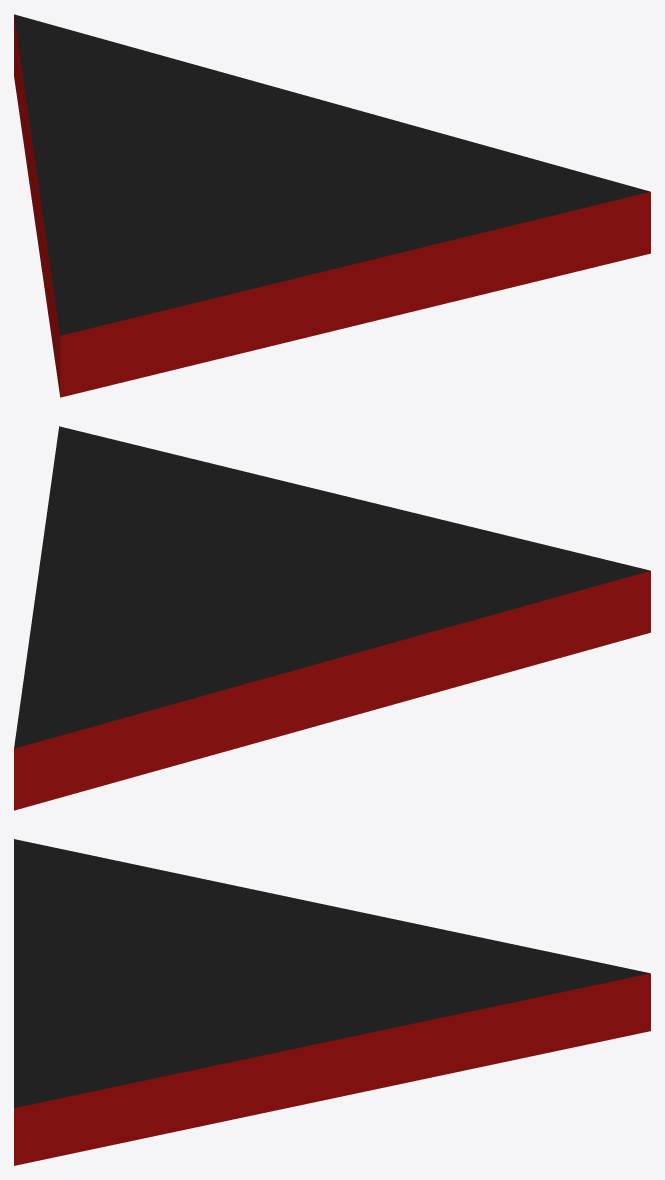
The model's file is Player_Default.FBX.
3 renders of one model, top to bottom at view 1: azimuth 30°, elevation 25°; view 2: azimuth 150°, elevation 25°; view 3: azimuth 270°, elevation 25°, orthographic. The views are drawn at different scales.
Visible parts, largest first — view 1: Box001; view 2: Box001; view 3: Box001.
Part boxes in pixels (<box>): Box001: <box>14,14,650,397</box>; Box001: <box>14,426,650,810</box>; Box001: <box>14,839,650,1165</box>.
Size of the model in its own units: 64.52 by 6.45 by 64.52.
